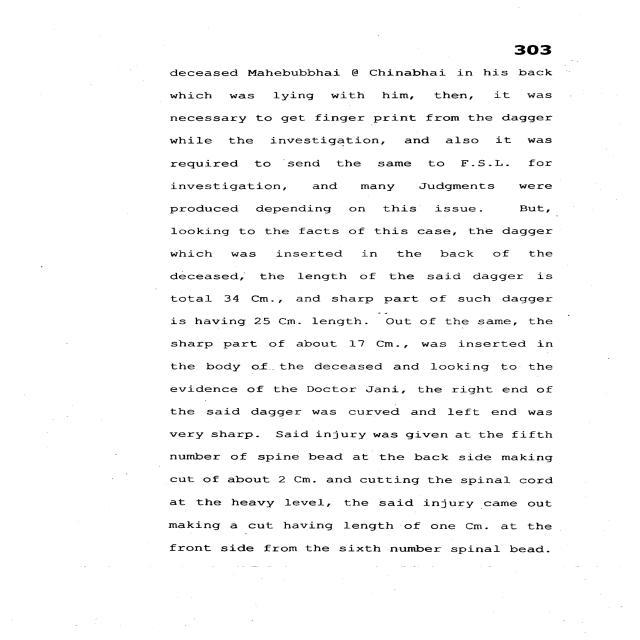page-number: (425, 0, 639, 60)
